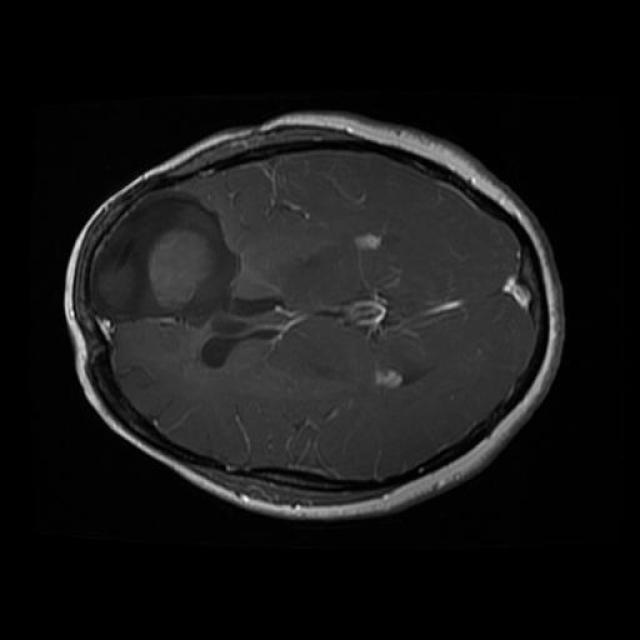Glioma: (91, 193, 239, 321)
